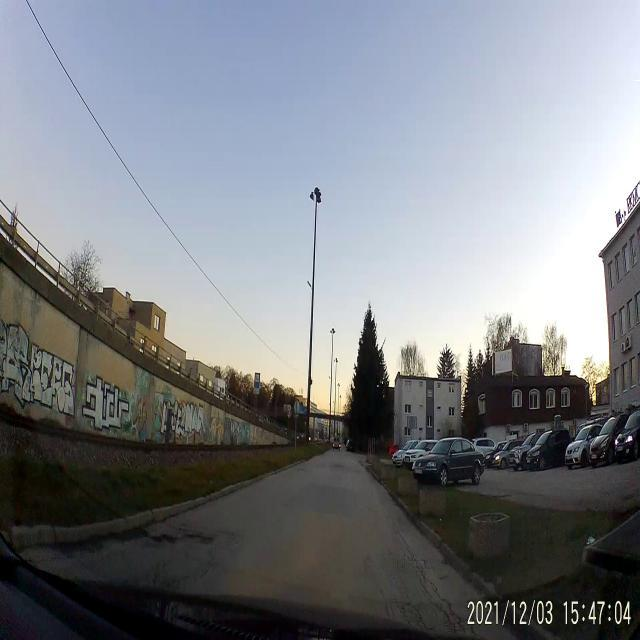Pothole: (148, 528, 210, 550)
